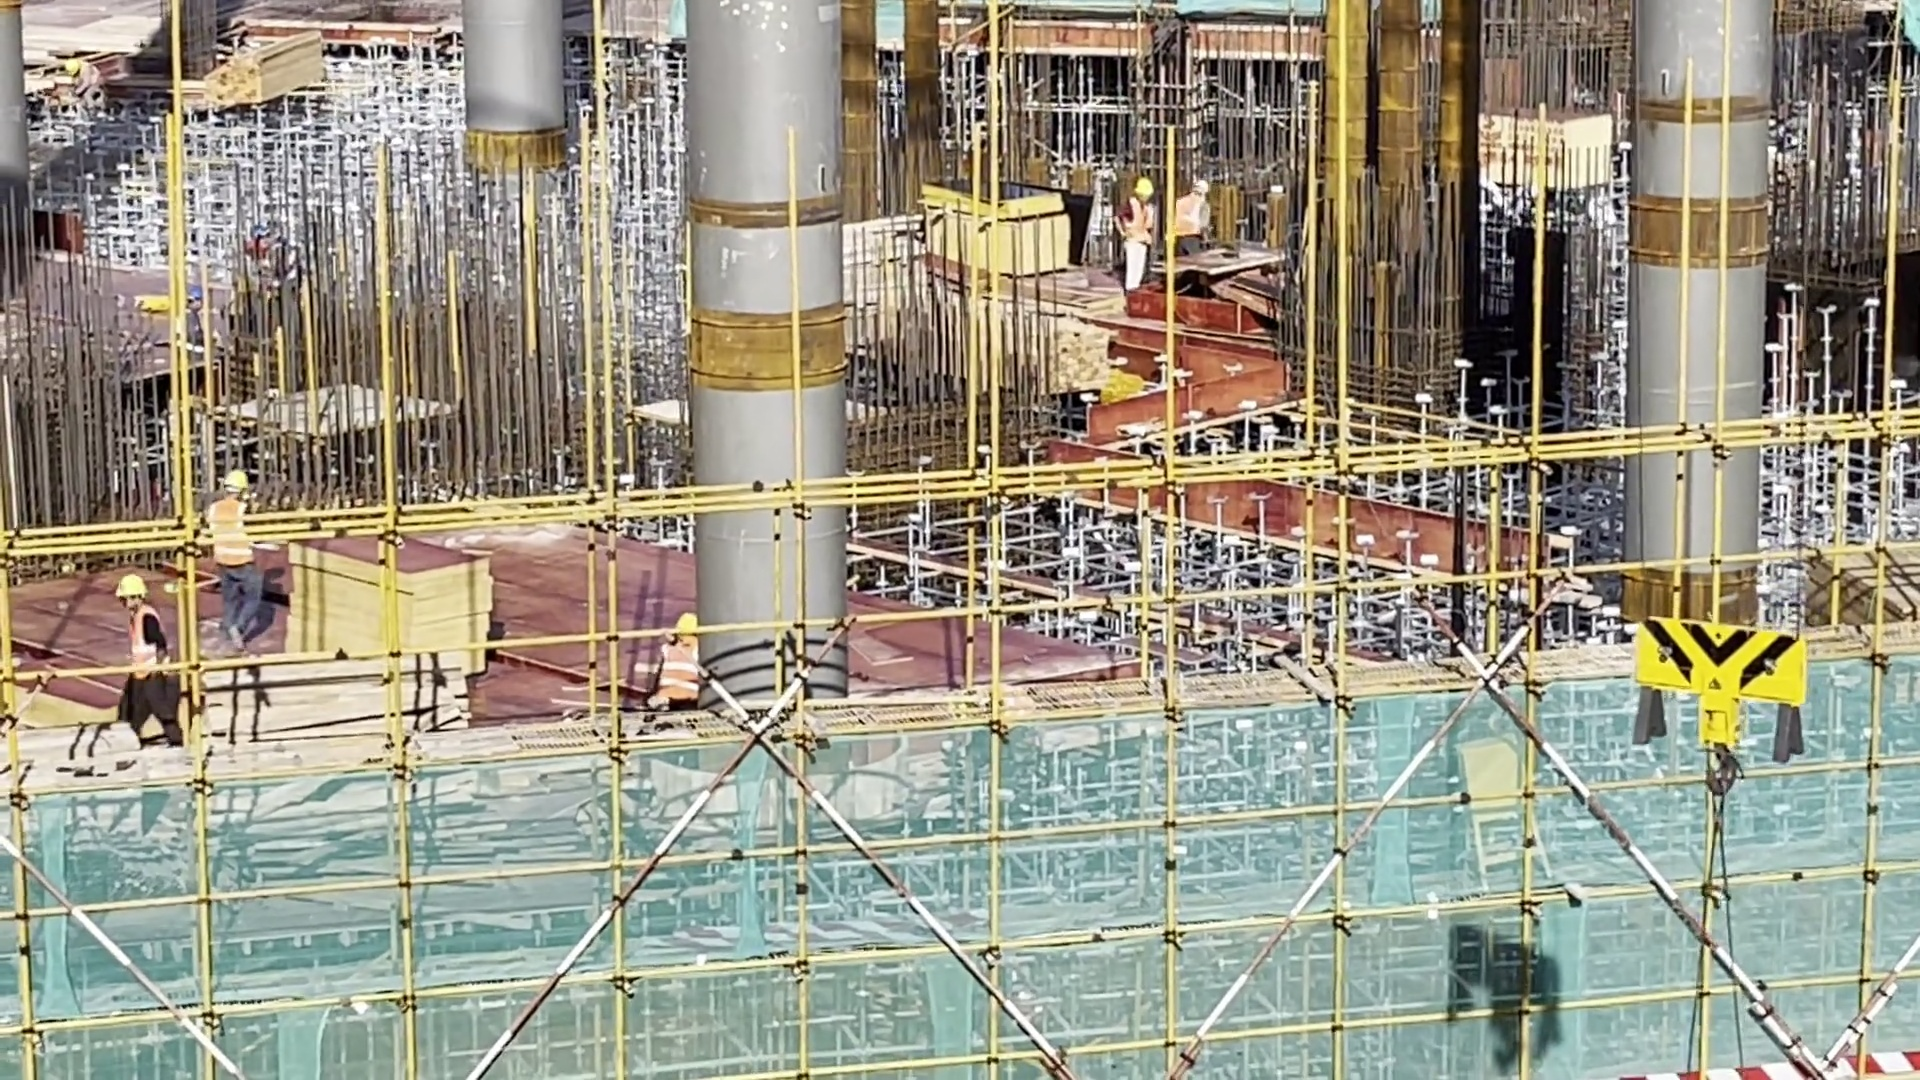board: (279, 537, 520, 694), (906, 177, 1075, 281), (1800, 548, 1920, 654)
ebox: (1456, 726, 1558, 899)
helmet: (116, 567, 150, 616), (223, 467, 256, 502), (672, 610, 700, 647), (1132, 176, 1153, 209), (1188, 178, 1208, 198)
hook: (1609, 589, 1847, 791)
person: (113, 569, 186, 762), (202, 461, 270, 656), (1166, 173, 1227, 298), (1112, 168, 1163, 298), (658, 609, 705, 712)
vest: (652, 642, 707, 712), (120, 606, 172, 679), (208, 495, 248, 582), (1174, 193, 1208, 240), (1120, 199, 1152, 242)
wood: (170, 641, 473, 776), (187, 32, 345, 116)
